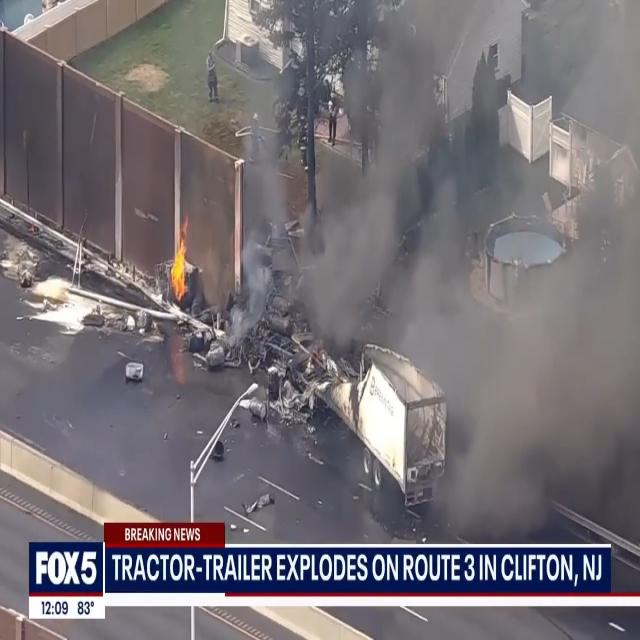fire: (162, 216, 197, 303)
